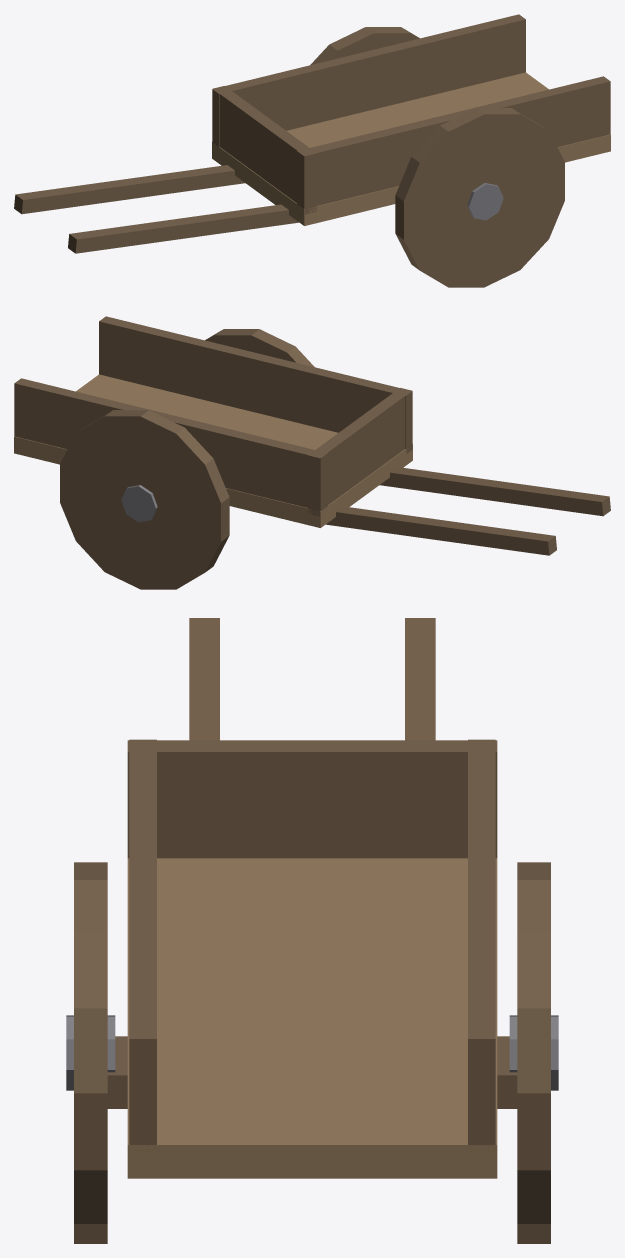
The model's file is cart.glb.
3 views of the same model, one above another, from view 1: azimuth 30°, elevation 25°; view 2: azimuth 150°, elevation 25°; view 3: azimuth 270°, elevation 25° (orthographic). The views are drawn at different scales.
Parts seen in each view (by area): view 1: cart; view 2: cart; view 3: cart.
Part boxes in pixels (x1,y1,x2,y2): cart: (14,14,610,287); cart: (14,316,610,589); cart: (66,618,558,1243).
Size of the model in its own units: 3.9 by 1.24 by 1.6.
